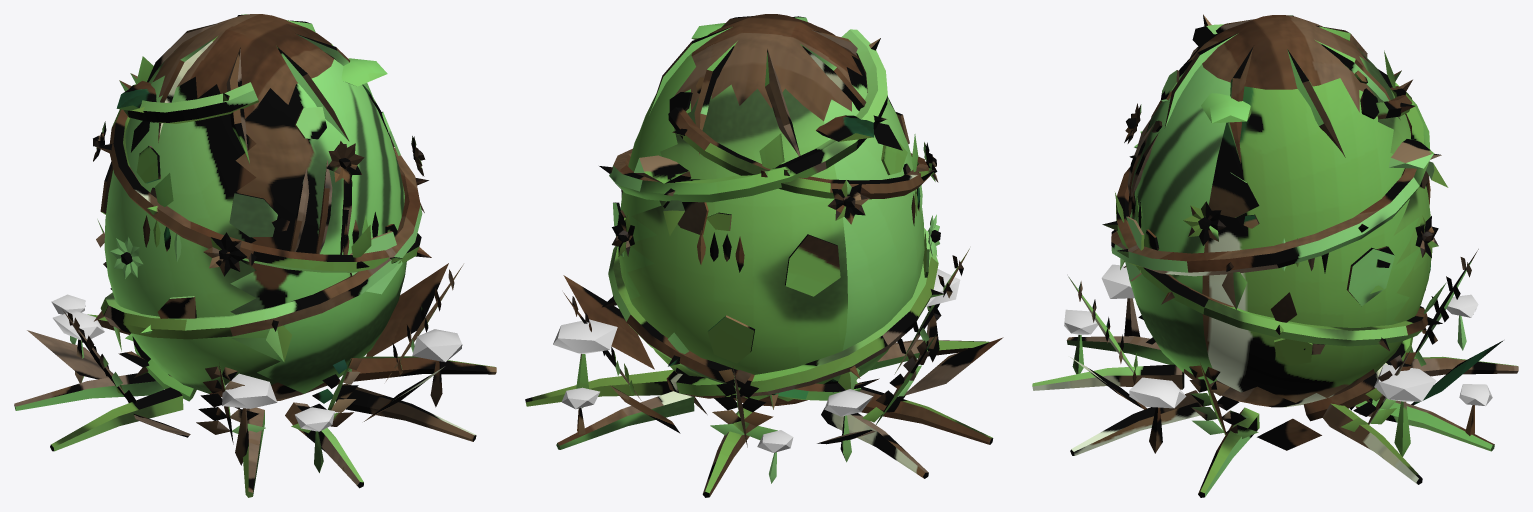
Rendered from egg_wild.fbx.
3 renders of one model, left to right at view 1: azimuth 30°, elevation 25°; view 2: azimuth 150°, elevation 25°; view 3: azimuth 270°, elevation 25°, orthographic.
Visible parts, largest first — view 1: egg_wild_body, egg_wild_body_glow; view 2: egg_wild_body, egg_wild_body_glow; view 3: egg_wild_body, egg_wild_body_glow.
Boxes of the visible parts, <box> form: egg_wild_body: <box>14,14,496,497</box>; egg_wild_body_glow: <box>51,294,462,431</box>; egg_wild_body: <box>525,14,1003,497</box>; egg_wild_body_glow: <box>553,269,960,452</box>; egg_wild_body: <box>1032,14,1518,497</box>; egg_wild_body_glow: <box>1064,264,1492,408</box>.
Size of the model in its own units: 352 by 300 by 355.
2 materials, 1 textured.
